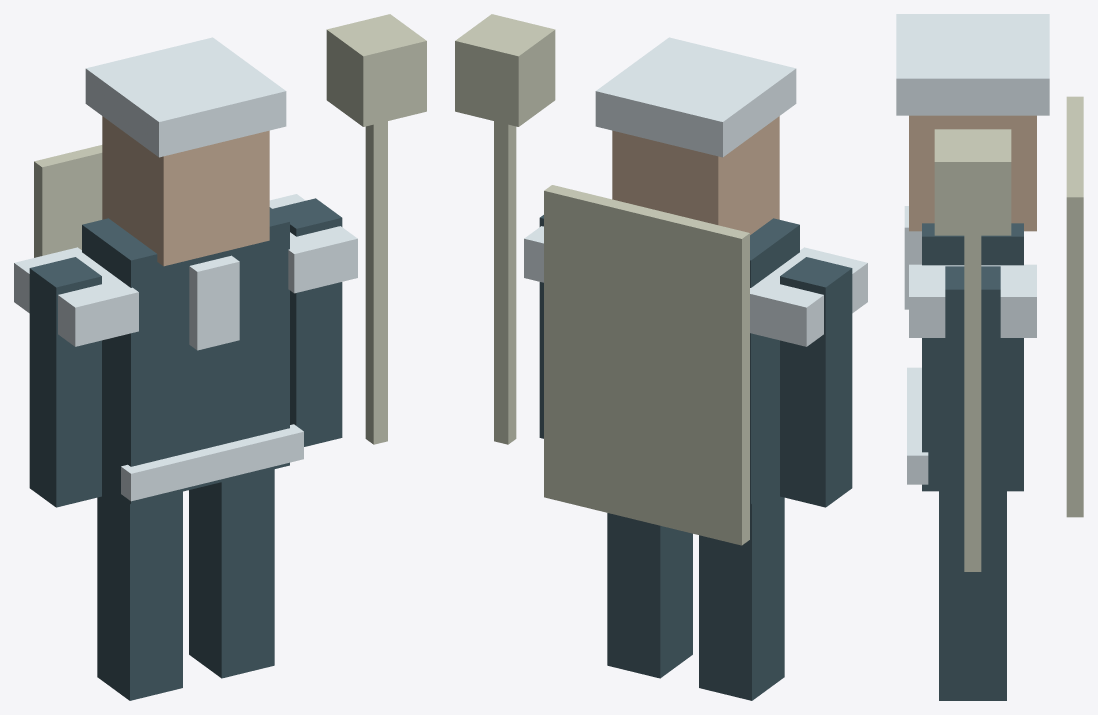
The model's file is 16_sarai_whispercoil_marshal_at_revision.glb.
3 renders of one model, left to right at view 1: azimuth 30°, elevation 25°; view 2: azimuth 150°, elevation 25°; view 3: azimuth 270°, elevation 25°, orthographic. The views are drawn at different scales.
Parts seen in each view (by area): view 1: Sarai Whispercoil, Marshal at Revision; view 2: Sarai Whispercoil, Marshal at Revision; view 3: Sarai Whispercoil, Marshal at Revision.
Part boxes in pixels (<box>): Sarai Whispercoil, Marshal at Revision: <box>14,14,426,700</box>; Sarai Whispercoil, Marshal at Revision: <box>455,14,867,700</box>; Sarai Whispercoil, Marshal at Revision: <box>896,14,1083,700</box>.
Bounding box in the file's own units: 0.9813 × 1.52 × 0.4172.
